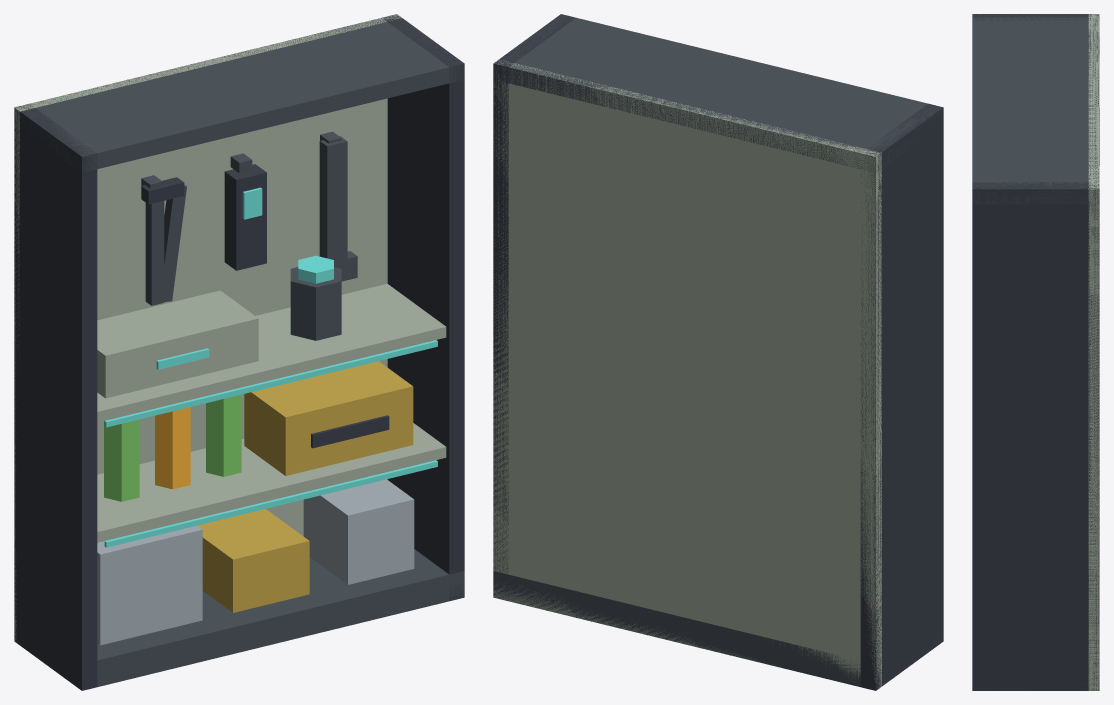
File: GV_ShipToolRack_01.glb
3 views of the same model, side by side, from view 1: azimuth 30°, elevation 25°; view 2: azimuth 150°, elevation 25°; view 3: azimuth 270°, elevation 25° (orthographic). The views are drawn at different scales.
Parts seen in each view (by area): view 1: GV_ShipToolRack_01; view 2: GV_ShipToolRack_01; view 3: GV_ShipToolRack_01.
Boxes of the visible parts, x1=… form: GV_ShipToolRack_01: x1=14, y1=14, x2=464, y2=690; GV_ShipToolRack_01: x1=493, y1=14, x2=943, y2=690; GV_ShipToolRack_01: x1=972, y1=14, x2=1099, y2=690.
Size of the model in its own units: 1.5 by 2 by 0.46.
Materials: 1 (1 with a texture image).
